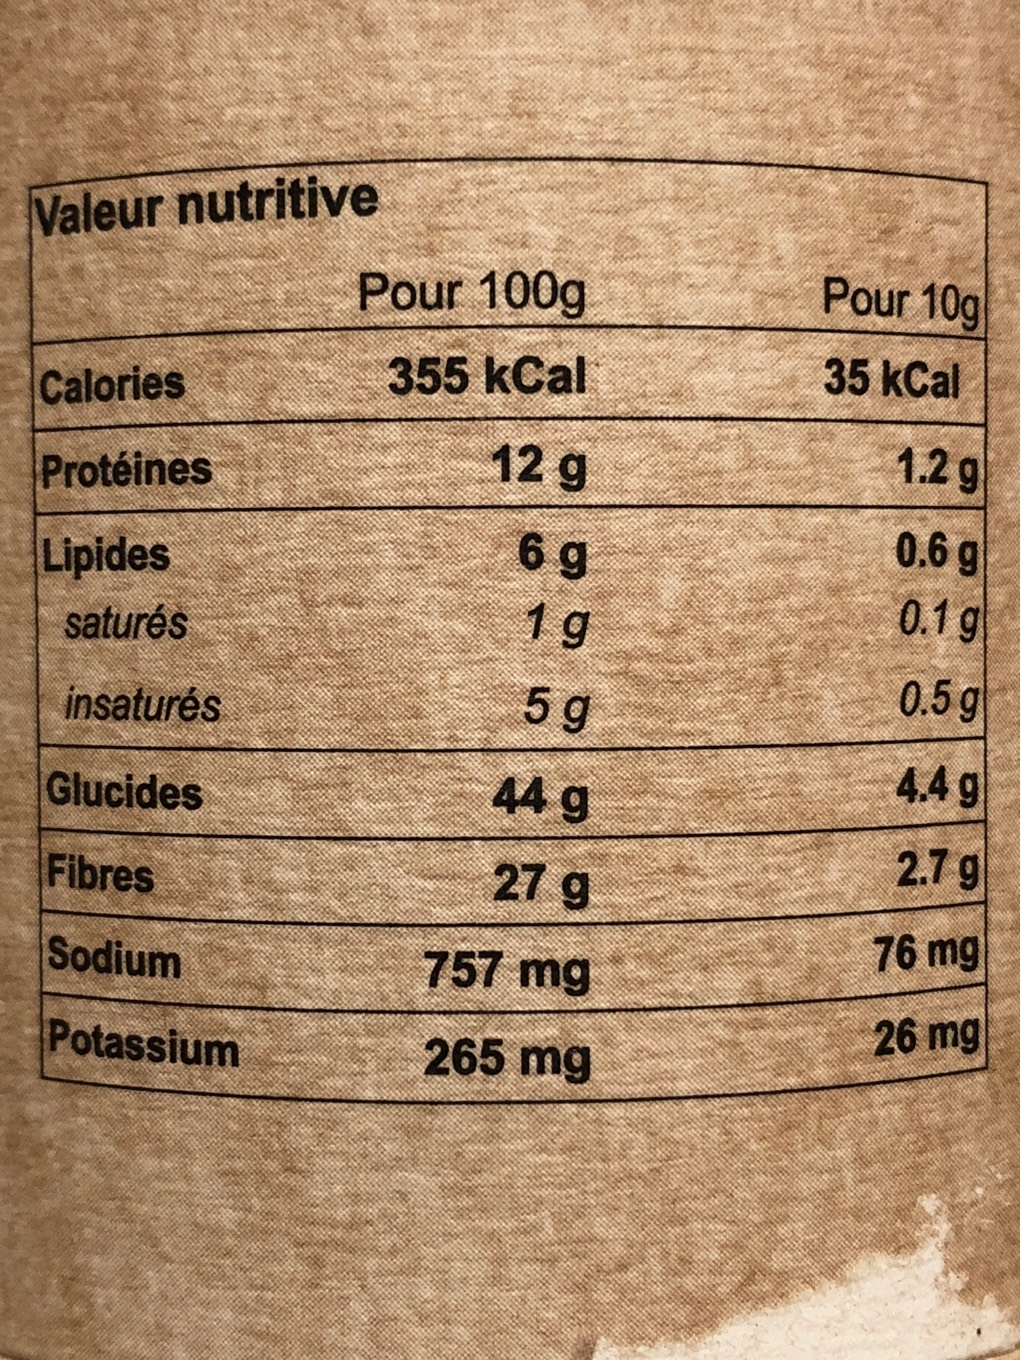column: (360, 268, 593, 1082), (39, 357, 239, 1076), (820, 277, 982, 1065)
table: (21, 152, 992, 1109)
